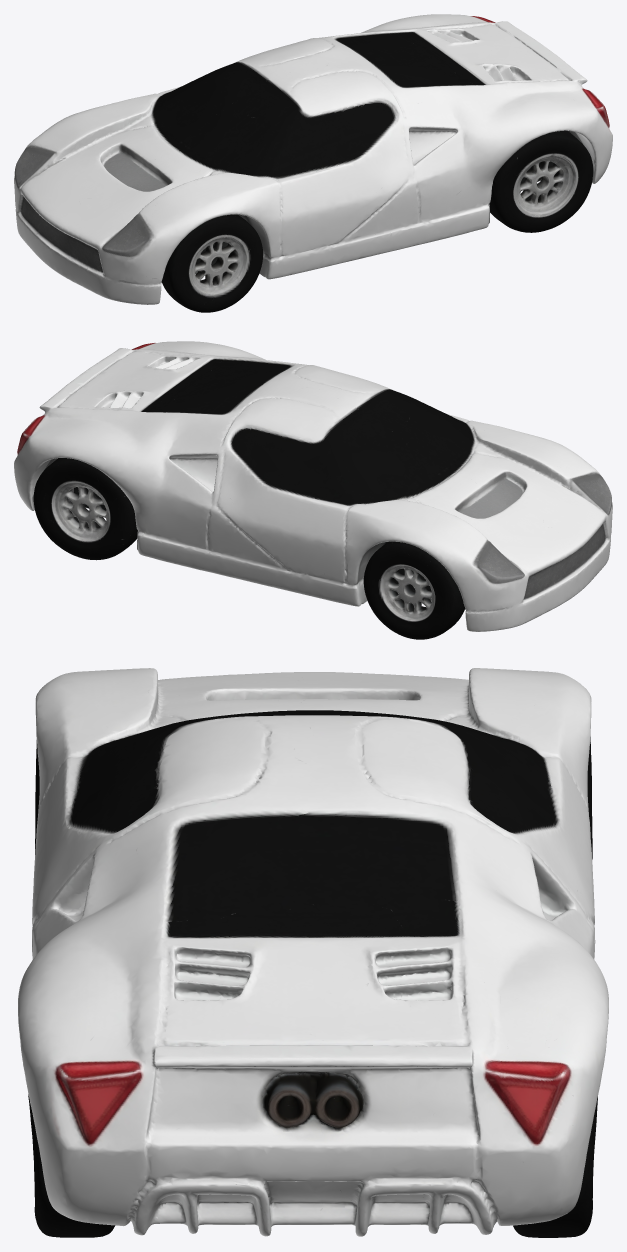
File: cars_crossing_future.glb
3 views of the same model, one above another, from view 1: azimuth 30°, elevation 25°; view 2: azimuth 150°, elevation 25°; view 3: azimuth 270°, elevation 25° (orthographic). The views are drawn at different scales.
Bounding box in the file's own units: 1.9 × 0.564 × 0.9512.
1 material, 1 textured.
